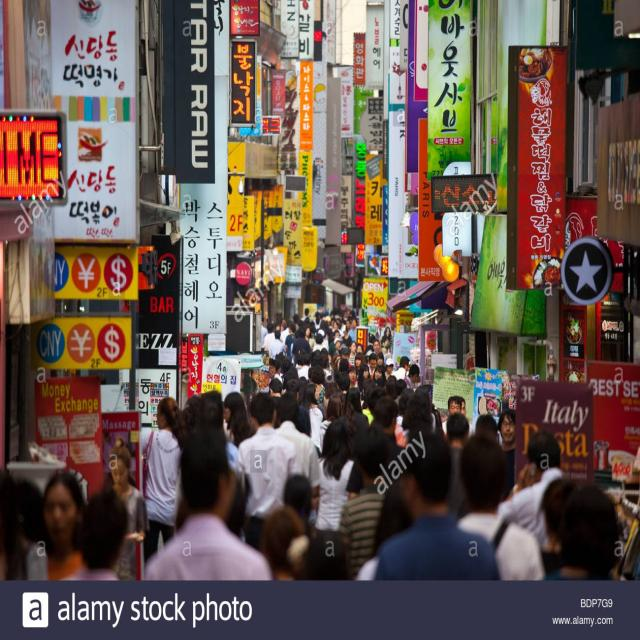body: (246, 304, 517, 438), (223, 464, 416, 580), (143, 425, 274, 582), (371, 429, 502, 581), (0, 465, 127, 586), (456, 433, 548, 579), (236, 390, 303, 553), (539, 477, 632, 582), (140, 395, 187, 568), (337, 442, 389, 580), (106, 444, 150, 581), (314, 418, 356, 544), (274, 390, 320, 503), (502, 431, 562, 504), (185, 383, 247, 444)
